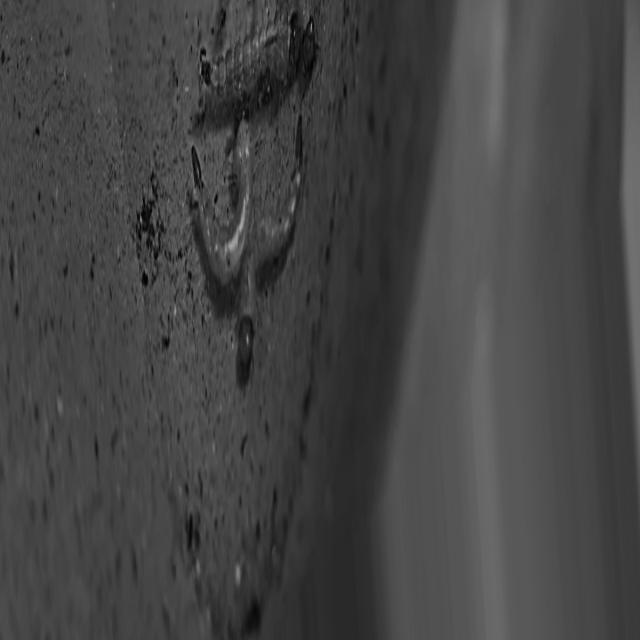larvas: (223, 115, 327, 382), (187, 99, 249, 283), (199, 9, 299, 101), (297, 0, 324, 78), (252, 0, 273, 37)
